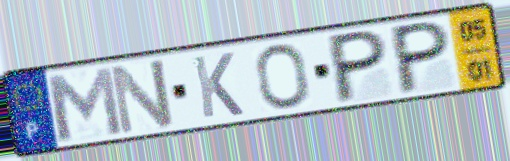K: (189, 50, 247, 120)
M: (41, 64, 126, 144)
N: (107, 55, 177, 138)
O: (252, 42, 313, 111)
P: (329, 27, 390, 107), (392, 18, 453, 98)
